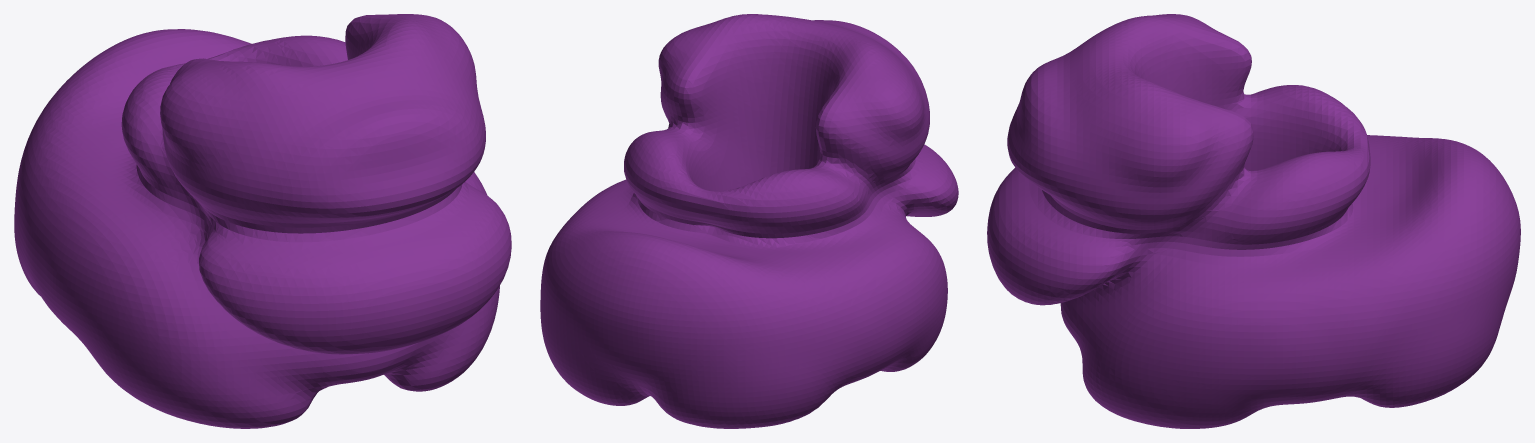
The model's file is fullbarycenter.obj.
3 views of the same model, side by side, from view 1: azimuth 30°, elevation 25°; view 2: azimuth 150°, elevation 25°; view 3: azimuth 270°, elevation 25° (orthographic). The views are drawn at different scales.
Bounding box in the file's own units: 65.41 × 54.43 × 82.69.
